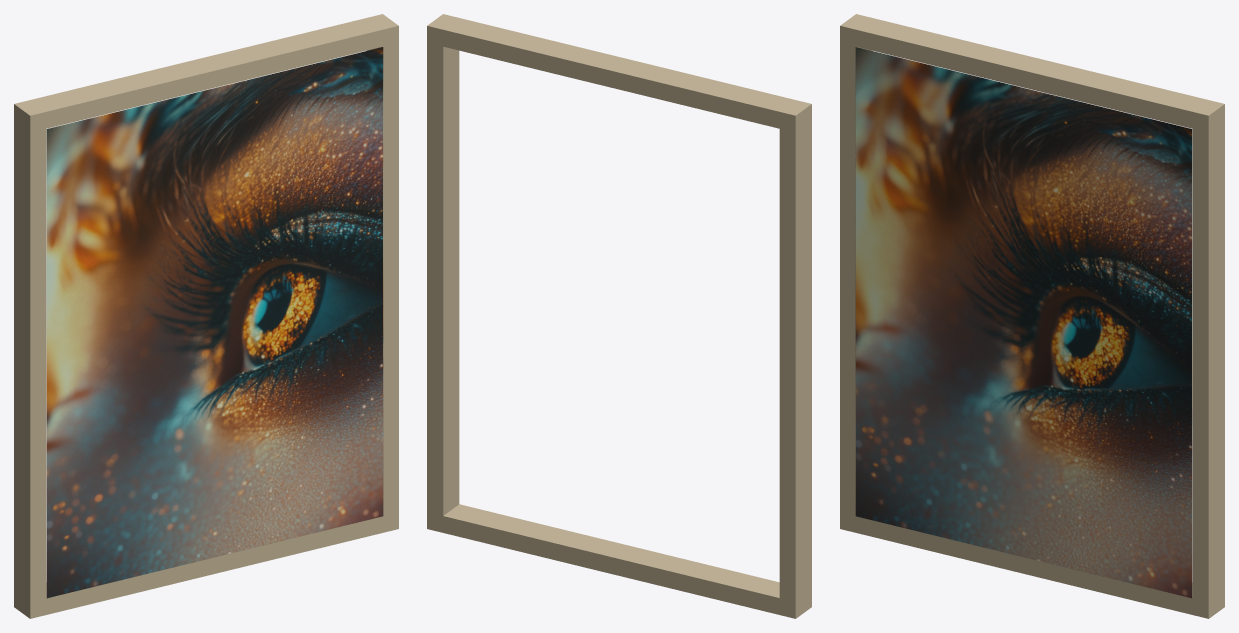
The model's file is gilded-horizon_canvas_18-24.glb.
The picture shows the model from 3 angles, left to right: view 1: azimuth 30°, elevation 25°; view 2: azimuth 150°, elevation 25°; view 3: azimuth 330°, elevation 25°; orthographic projection.
Parts seen in each view (by area): view 1: world; view 2: world; view 3: world.
Boxes of the visible parts, x1,y1,x2,y2 form: world: [14, 14, 398, 618]; world: [427, 14, 811, 618]; world: [840, 14, 1224, 618].
Size of the model in its own units: 0.5012 by 0.6536 by 0.039.
1 material, 1 textured.
